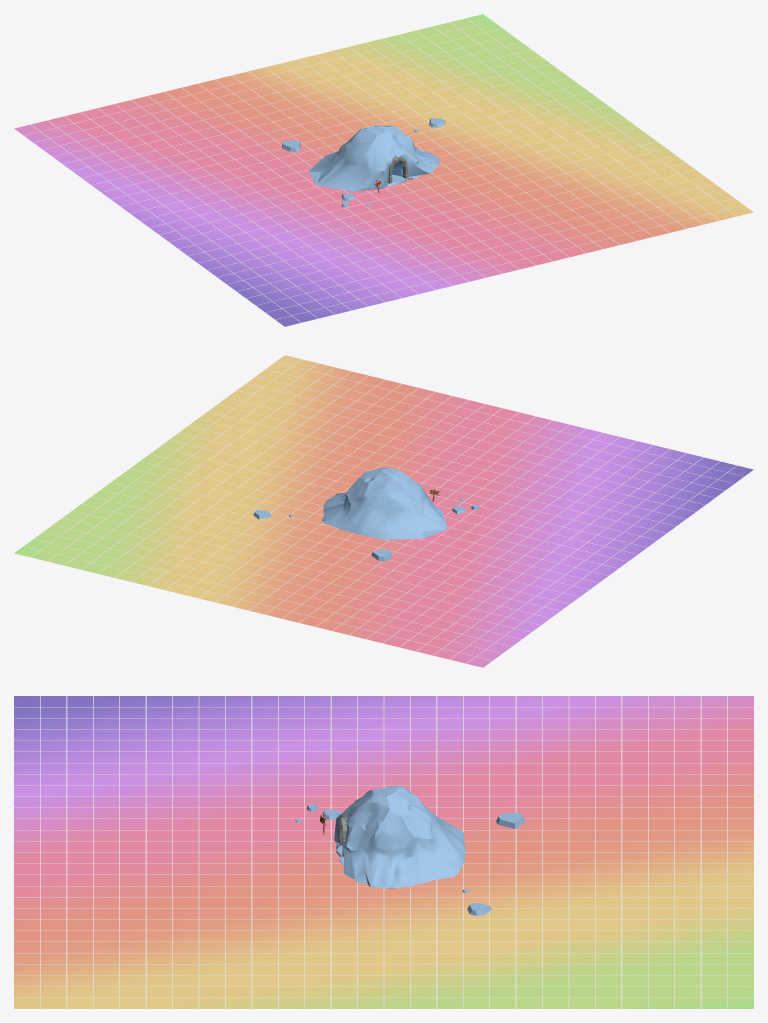
Rendered from Environment_Lobby_01.fbx.
3 views of the same model, one above another, from view 1: azimuth 30°, elevation 25°; view 2: azimuth 150°, elevation 25°; view 3: azimuth 270°, elevation 25° (orthographic). The views are drawn at different scales.
Parts seen in each view (by area): view 1: pCube548, pCube547; view 2: pCube548, pCube547; view 3: pCube548, pCube547.
Boxes of the visible parts, x1,y1,x2,y2 form: pCube548: [14, 14, 753, 326]; pCube547: [281, 118, 445, 207]; pCube548: [14, 355, 753, 667]; pCube547: [253, 468, 479, 561]; pCube548: [14, 696, 753, 1008]; pCube547: [295, 786, 525, 915].
Size of the model in its own units: 3605 by 325 by 3605.
